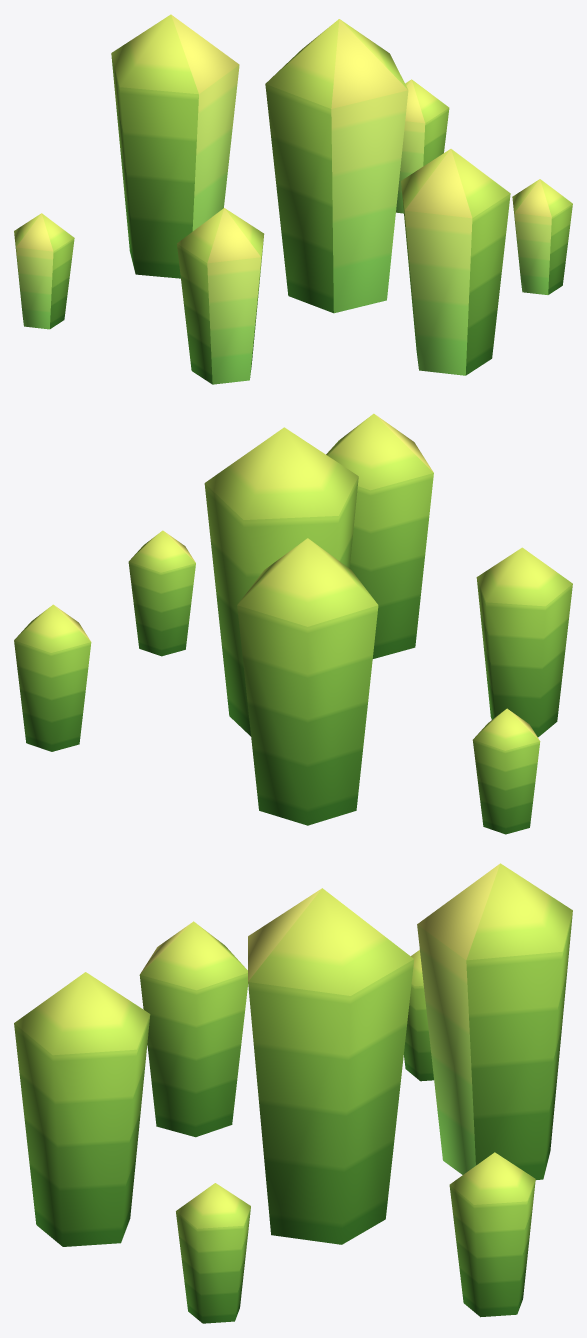
Rendered from plant_002.fbx.
3 views of the same model, one above another, from view 1: azimuth 30°, elevation 25°; view 2: azimuth 150°, elevation 25°; view 3: azimuth 270°, elevation 25° (orthographic). The views are drawn at different scales.
Parts seen in each view (by area): view 1: plant.002; view 2: plant.002; view 3: plant.002.
Part boxes in pixels (bbox=[...]): plant.002: bbox=[14, 14, 572, 384]; plant.002: bbox=[14, 413, 572, 834]; plant.002: bbox=[14, 863, 572, 1323].
Bounding box in the file's own units: 10.28 × 5.81 × 8.85.
